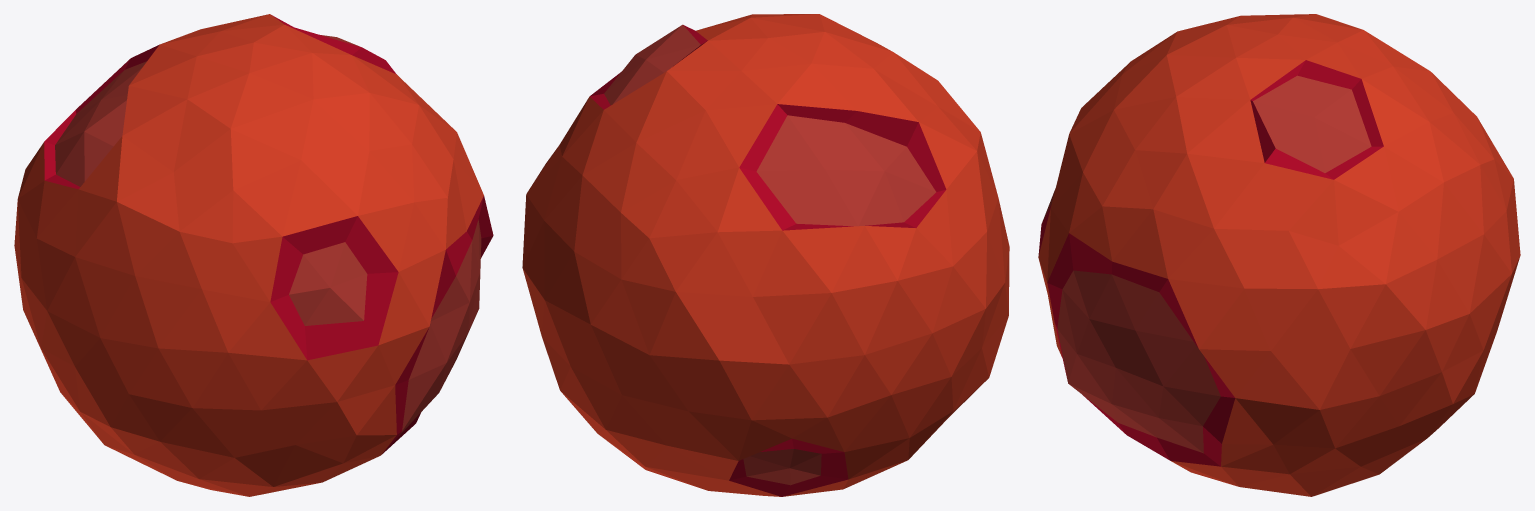
Rendered from Mars.fbx.
3 views of the same model, side by side, from view 1: azimuth 30°, elevation 25°; view 2: azimuth 150°, elevation 25°; view 3: azimuth 270°, elevation 25° (orthographic). The views are drawn at different scales.
Visible parts, largest first — view 1: Mars; view 2: Mars; view 3: Mars.
Part boxes in pixels (bbox=[...]): Mars: bbox=[14, 14, 493, 496]; Mars: bbox=[522, 14, 1009, 496]; Mars: bbox=[1038, 14, 1520, 496].
Bounding box in the file's own units: 109 × 108 × 108.
